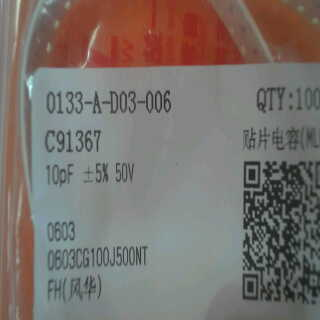10pF: (41, 157, 82, 191)
